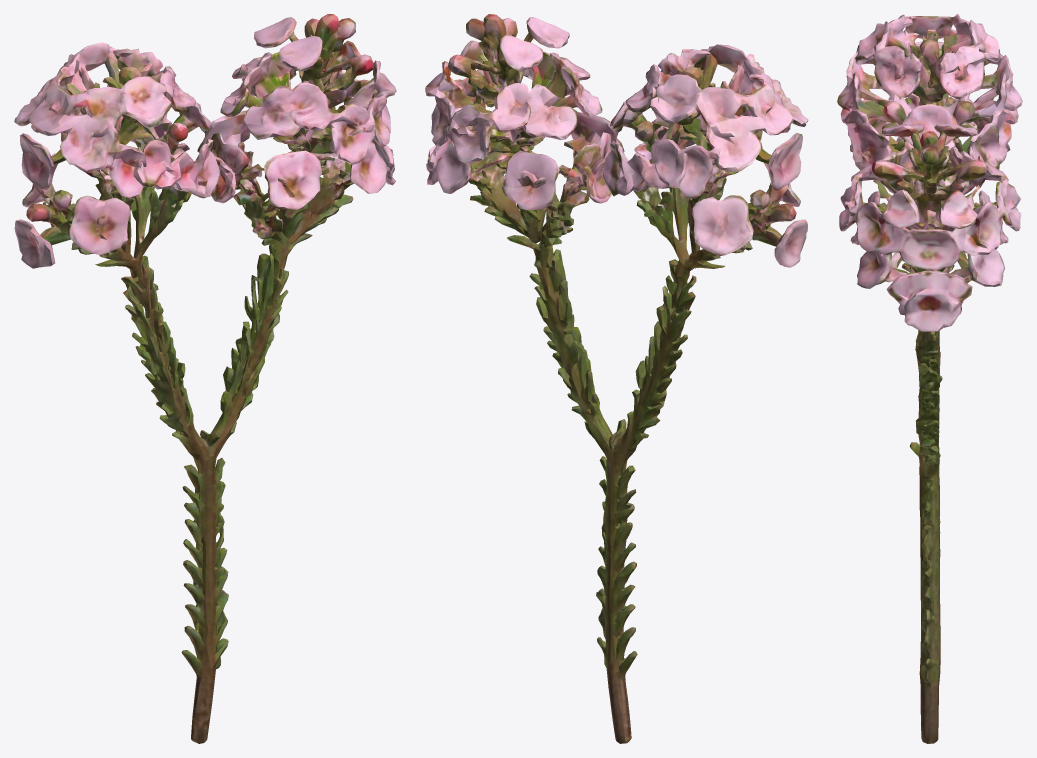
File: lux-waxflower.glb
3 renders of one model, left to right at view 1: azimuth 30°, elevation 25°; view 2: azimuth 150°, elevation 25°; view 3: azimuth 270°, elevation 25°, orthographic. The views are drawn at different scales.
Visible parts, largest first — view 1: geometry_0; view 2: geometry_0; view 3: geometry_0.
Part boxes in pixels (bbox=[...]): geometry_0: bbox=[14, 14, 396, 743]; geometry_0: bbox=[425, 14, 808, 743]; geometry_0: bbox=[837, 14, 1022, 743].
Bounding box in the file's own units: 0.2435 × 0.45 × 0.1113.
1 material, 1 textured.
